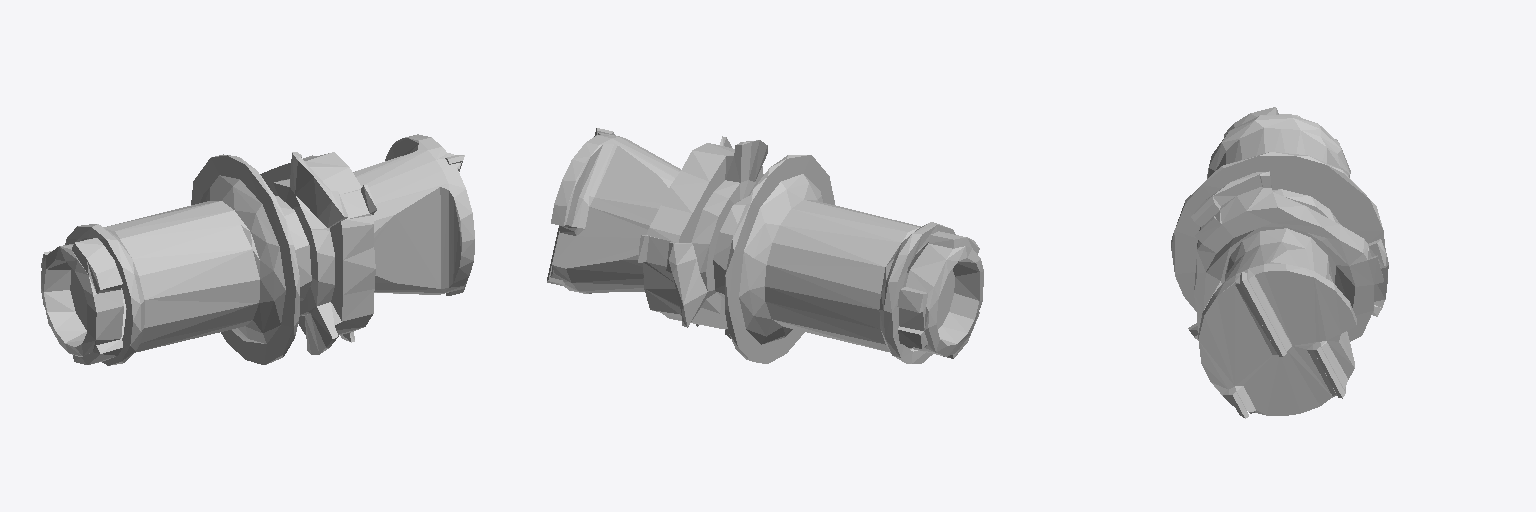
The model's file is AbradingBitInTurretAtZeroFeed.obj.
3 renders of one model, left to right at view 1: azimuth 30°, elevation 25°; view 2: azimuth 150°, elevation 25°; view 3: azimuth 270°, elevation 25°, orthographic.
Parts seen in each view (by area): view 1: AbradingBitInTurretAtZeroFeed.obj; view 2: AbradingBitInTurretAtZeroFeed.obj; view 3: AbradingBitInTurretAtZeroFeed.obj.
Part boxes in pixels (left/top/right/bottom): AbradingBitInTurretAtZeroFeed.obj: left=41, top=134, right=474, bottom=365; AbradingBitInTurretAtZeroFeed.obj: left=547, top=128, right=983, bottom=363; AbradingBitInTurretAtZeroFeed.obj: left=1171, top=107, right=1388, bottom=418.
Size of the model in its own units: 0.1307 by 0.0654 by 0.0647.